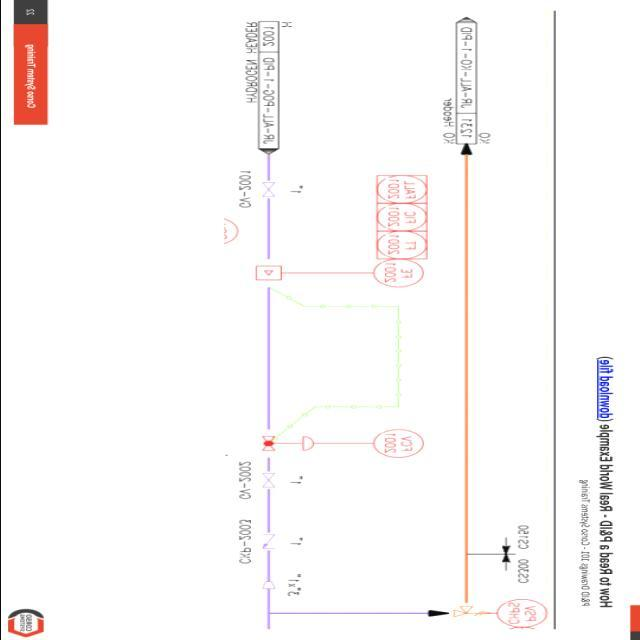Check Valve: (257, 532, 283, 552)
Gate Valve: (448, 604, 491, 622), (258, 472, 280, 490), (257, 182, 279, 198)
Pneumatic-Diaphragm Globe Valve: (254, 434, 314, 453)
